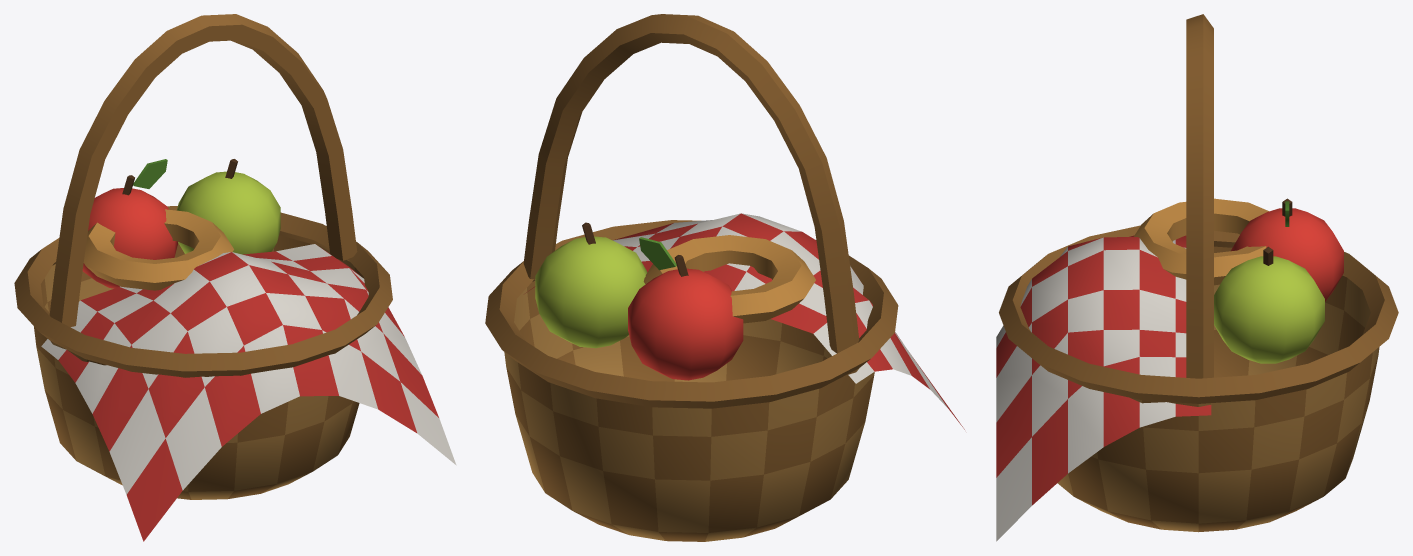
File: cos_a_basket.glb
The picture shows the model from 3 angles, left to right: view 1: azimuth 30°, elevation 25°; view 2: azimuth 150°, elevation 25°; view 3: azimuth 270°, elevation 25°; orthographic projection. The views are drawn at different scales.
Parts seen in each view (by area): view 1: a_basket; view 2: a_basket; view 3: a_basket.
Part boxes in pixels (x1,y1,x2,y2): a_basket: (14, 14, 456, 541); a_basket: (485, 14, 964, 541); a_basket: (996, 14, 1398, 541).
Size of the model in its own units: 0.316 by 0.3982 by 0.318.
